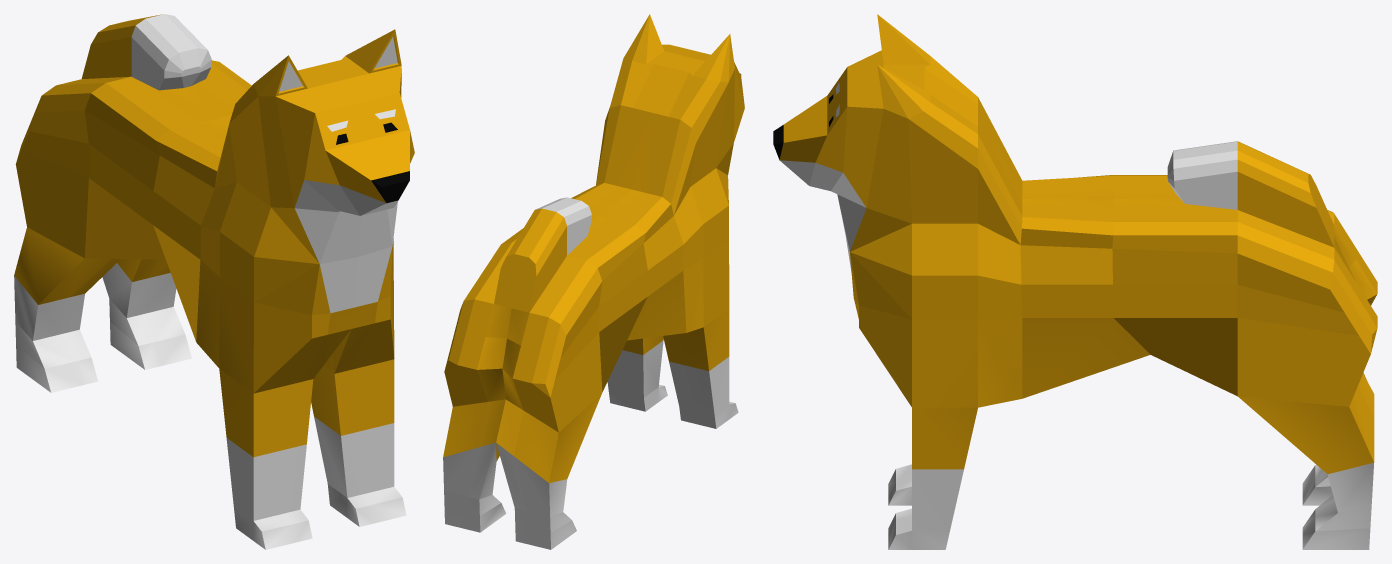
File: LowPolyInu1.glb
The picture shows the model from 3 angles, left to right: view 1: azimuth 30°, elevation 25°; view 2: azimuth 150°, elevation 25°; view 3: azimuth 270°, elevation 25°; orthographic projection. The views are drawn at different scales.
Parts seen in each view (by area): view 1: Cube; view 2: Cube; view 3: Cube.
Part boxes in pixels (left/top/right/bottom): Cube: left=14, top=14, right=414, bottom=549; Cube: left=443, top=14, right=744, bottom=549; Cube: left=773, top=14, right=1377, bottom=549.
Bounding box in the file's own units: 0.2 × 0.6715 × 0.7695.
